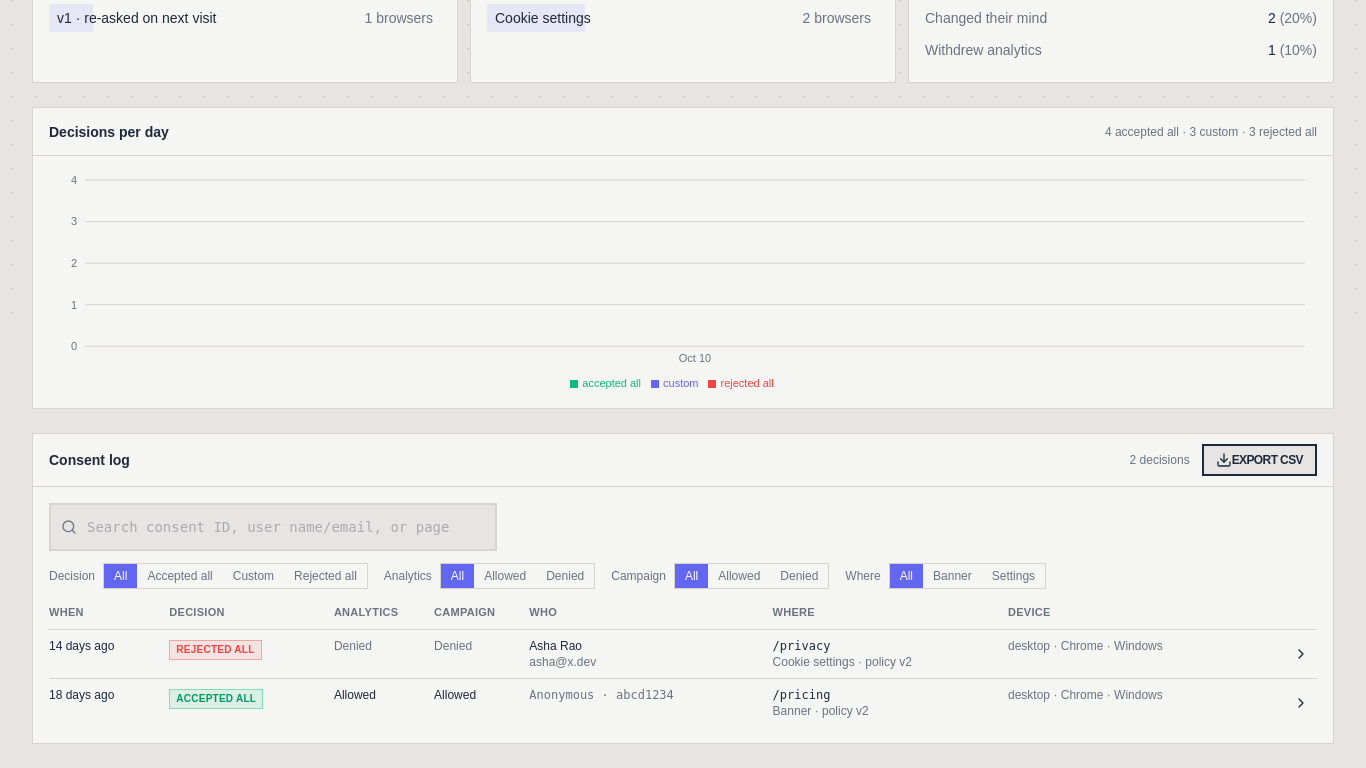
Test: Admin dashboard › consent tab: breakdowns, a searchable/filterable log, and a browser's full history
(page scrolled)
Expected: the text "v1 · re-asked on next visit" is shown, 57,8 -> 216,28
Expected: the text "Withdrew analytics" is shown, 925,40 -> 1042,60
Type "asha" into the field named "Search consent log". click: (273, 527)
box: 49,503 -> 497,551
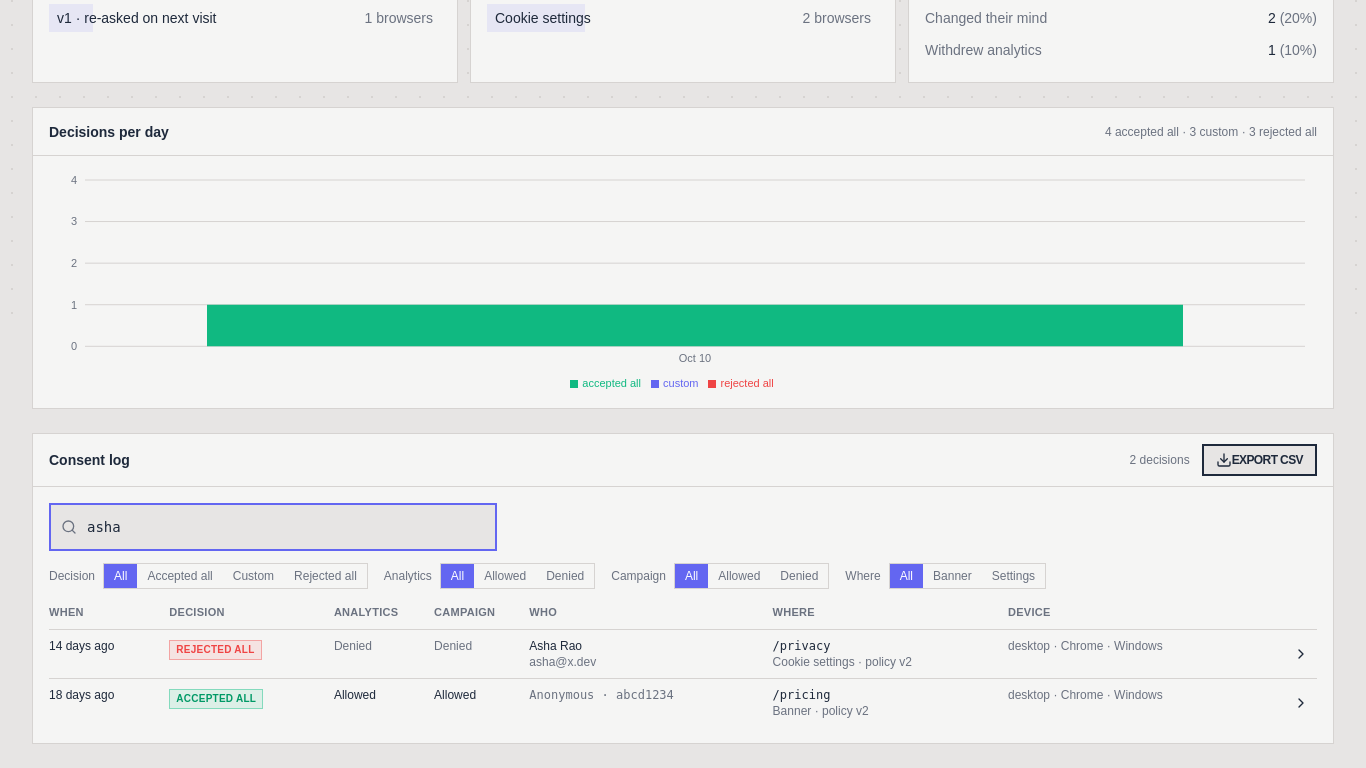
Click the button "Rejected all". click: (325, 576)
box: 284,564 -> 367,588
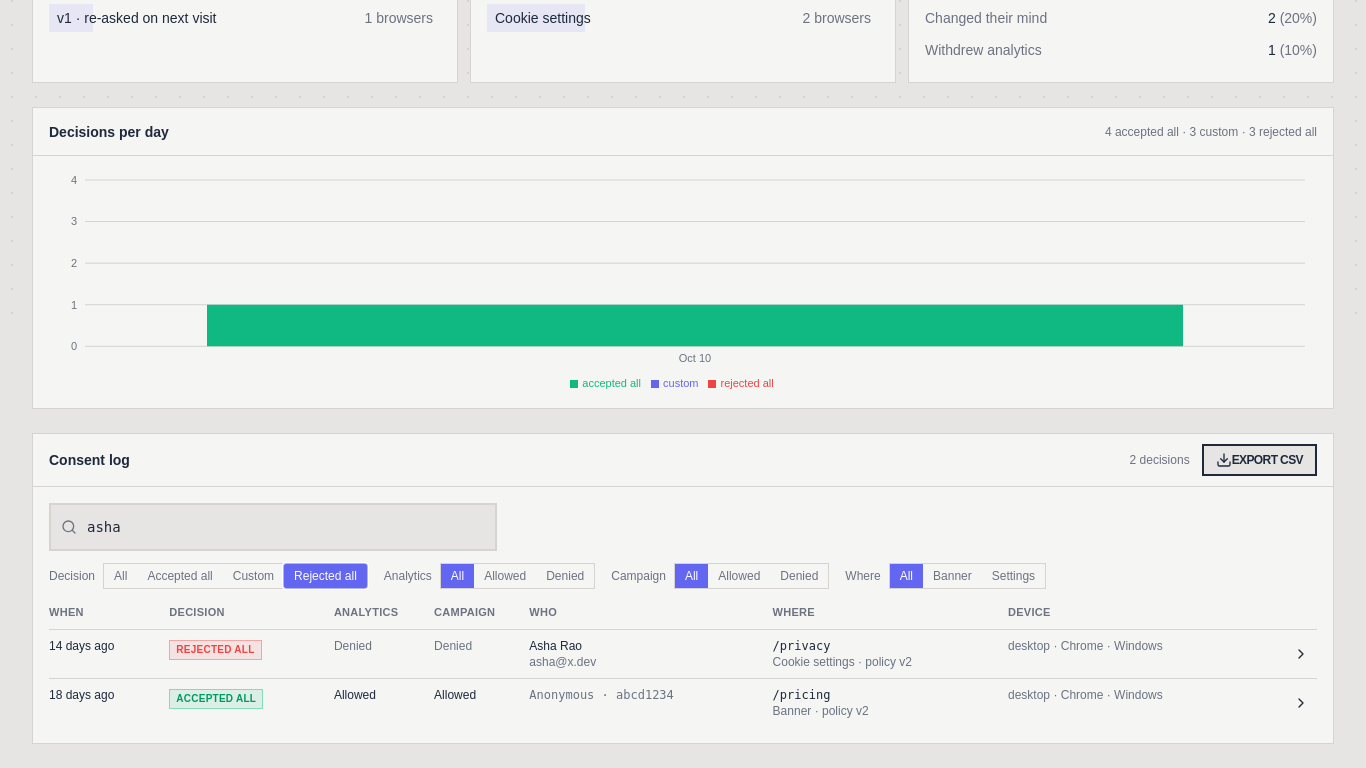
Click the 1st button "Denied". click: (565, 576)
box: 536,564 -> 594,588
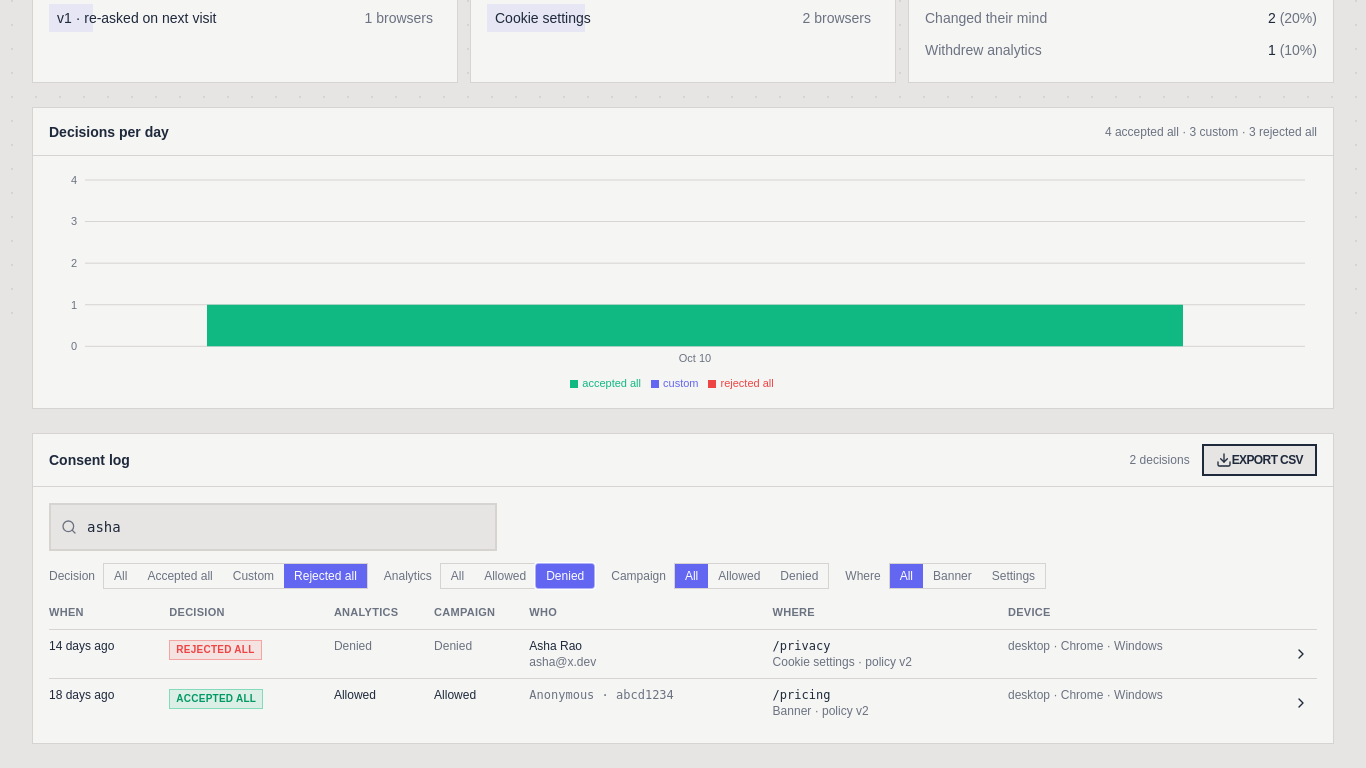
Click the button named "View consent history for asha@x.dev". click: (1301, 654)
box: 1285,638 -> 1317,670
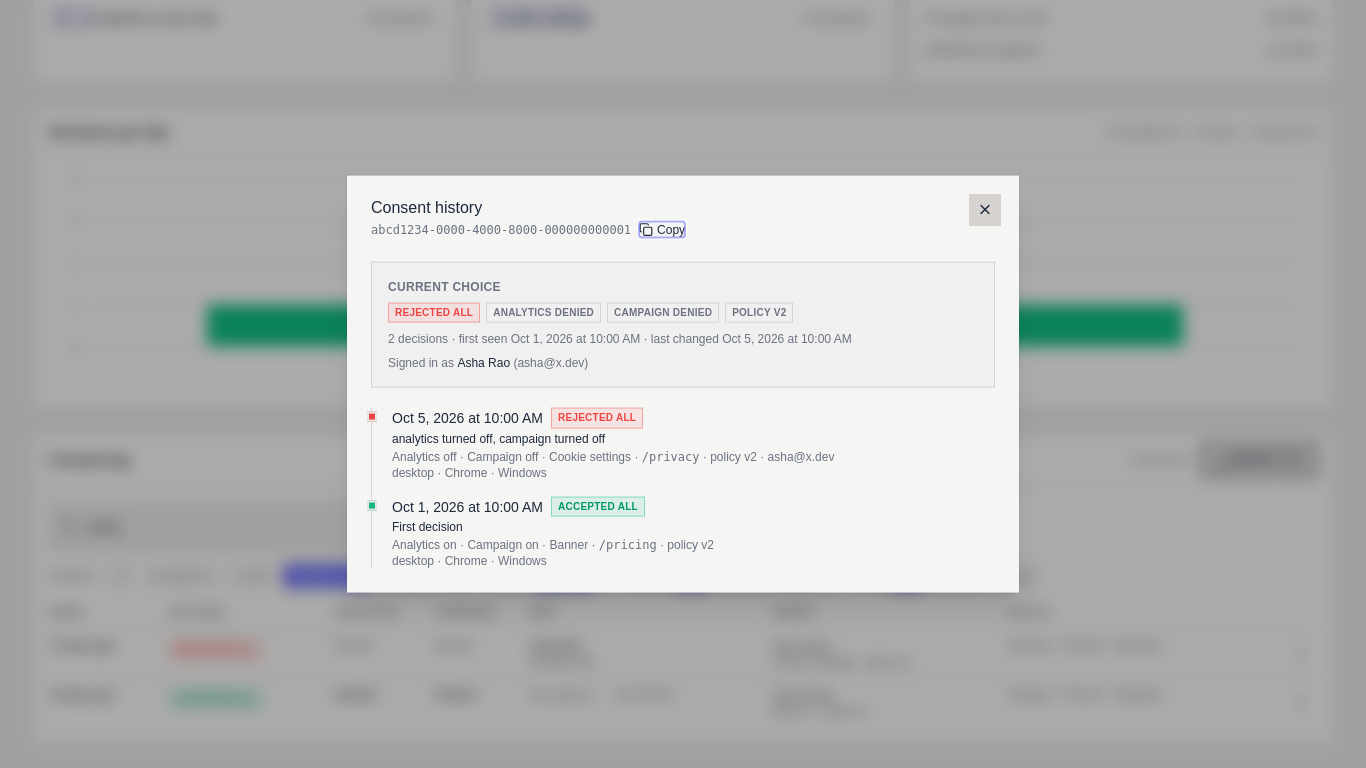
Expected: the text "First decision" is shown, 392,519 -> 463,533
Expected: the text "analytics turned off, campaign turned off" is shown, 392,431 -> 605,445
